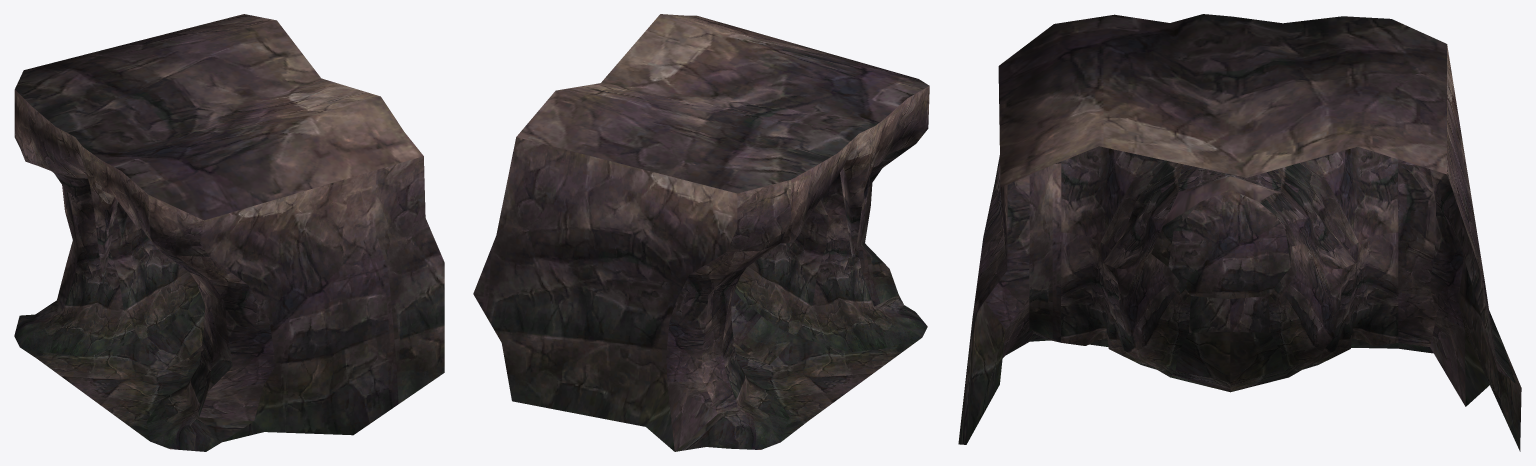
File: S_Rock_Black089.FBX
3 views of the same model, side by side, from view 1: azimuth 30°, elevation 25°; view 2: azimuth 150°, elevation 25°; view 3: azimuth 270°, elevation 25° (orthographic). The views are drawn at different scales.
Visible parts, largest first — view 1: S_Rock_Black089; view 2: S_Rock_Black089; view 3: S_Rock_Black089.
Boxes of the visible parts, box(x1,y1,x2,y2) form: S_Rock_Black089: box(14, 14, 444, 451); S_Rock_Black089: box(473, 14, 929, 451); S_Rock_Black089: box(958, 14, 1521, 451).
Size of the model in its own units: 1005 by 1400 by 985.
